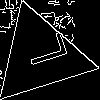L: (15, 31, 69, 71)
